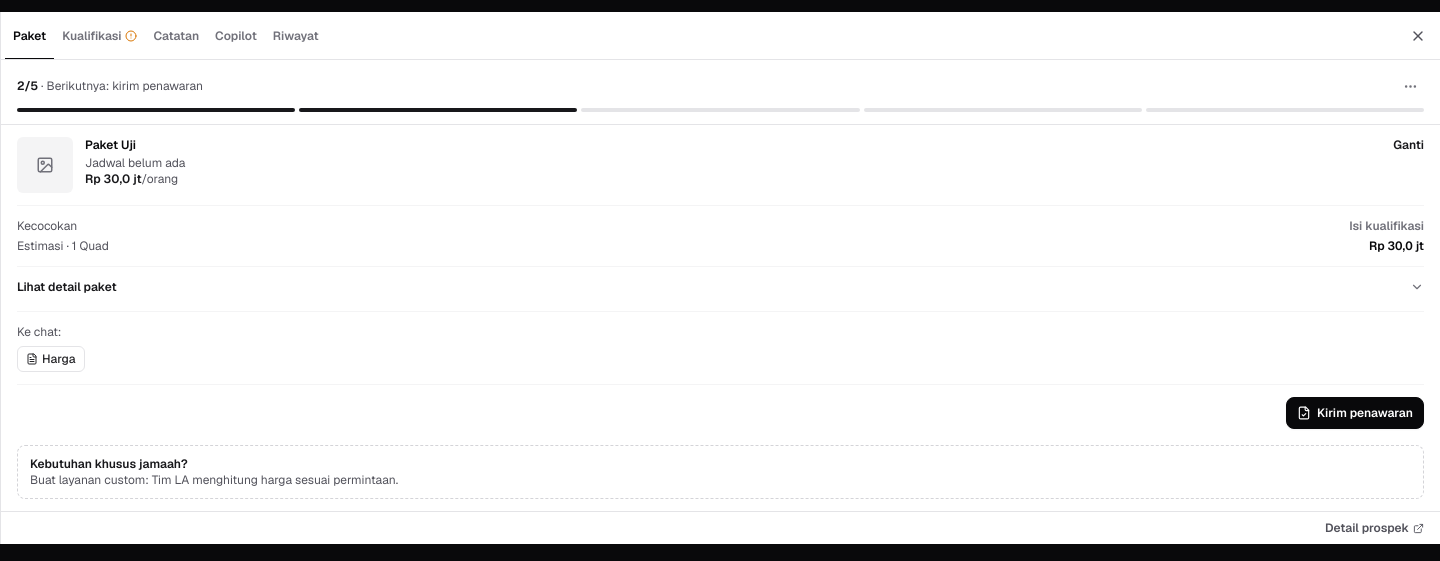
Test case: Profil dan Copilot › aksi menempel pada konteksnya: tahap di atas, penawaran di bawah paket; "Tidak jadi" terpisah di menu
expect the list named "Tahap 2 dari 5" is shown: met, box [17,108,1424,112]
Click the button named "Tindakan lainnya": click(1410, 86) [1396,72,1424,100]
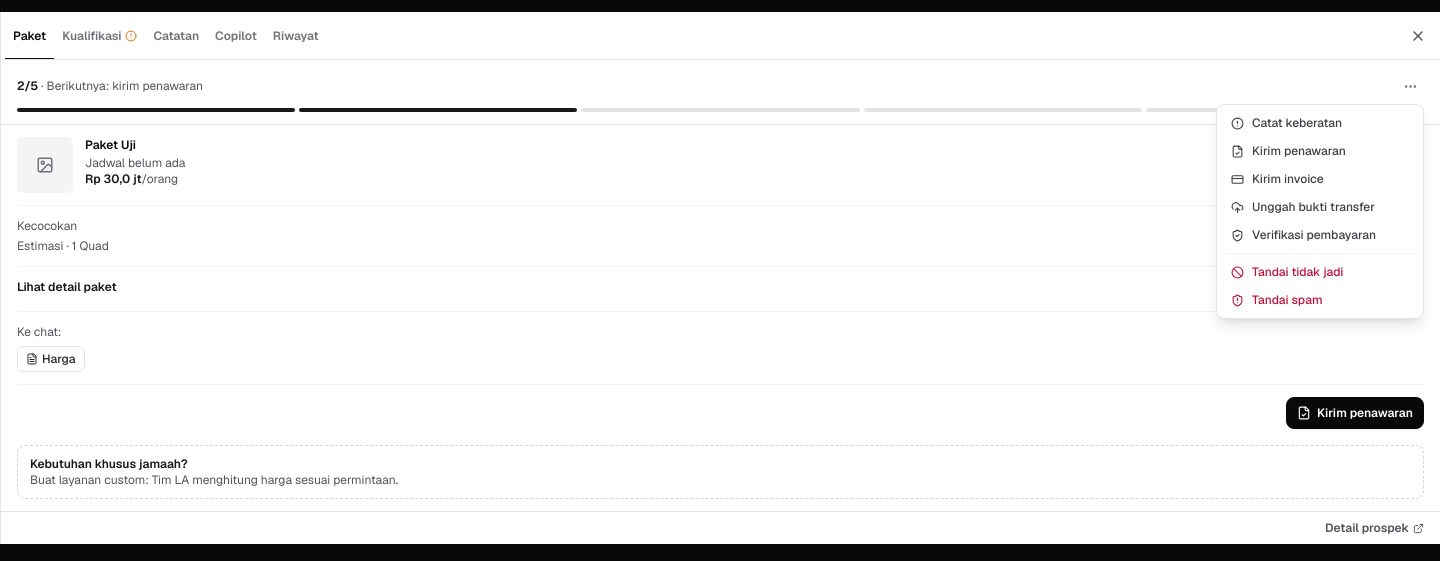
expect the button "Tandai tidak jadi" is shown: met, box [1221,258,1419,286]
